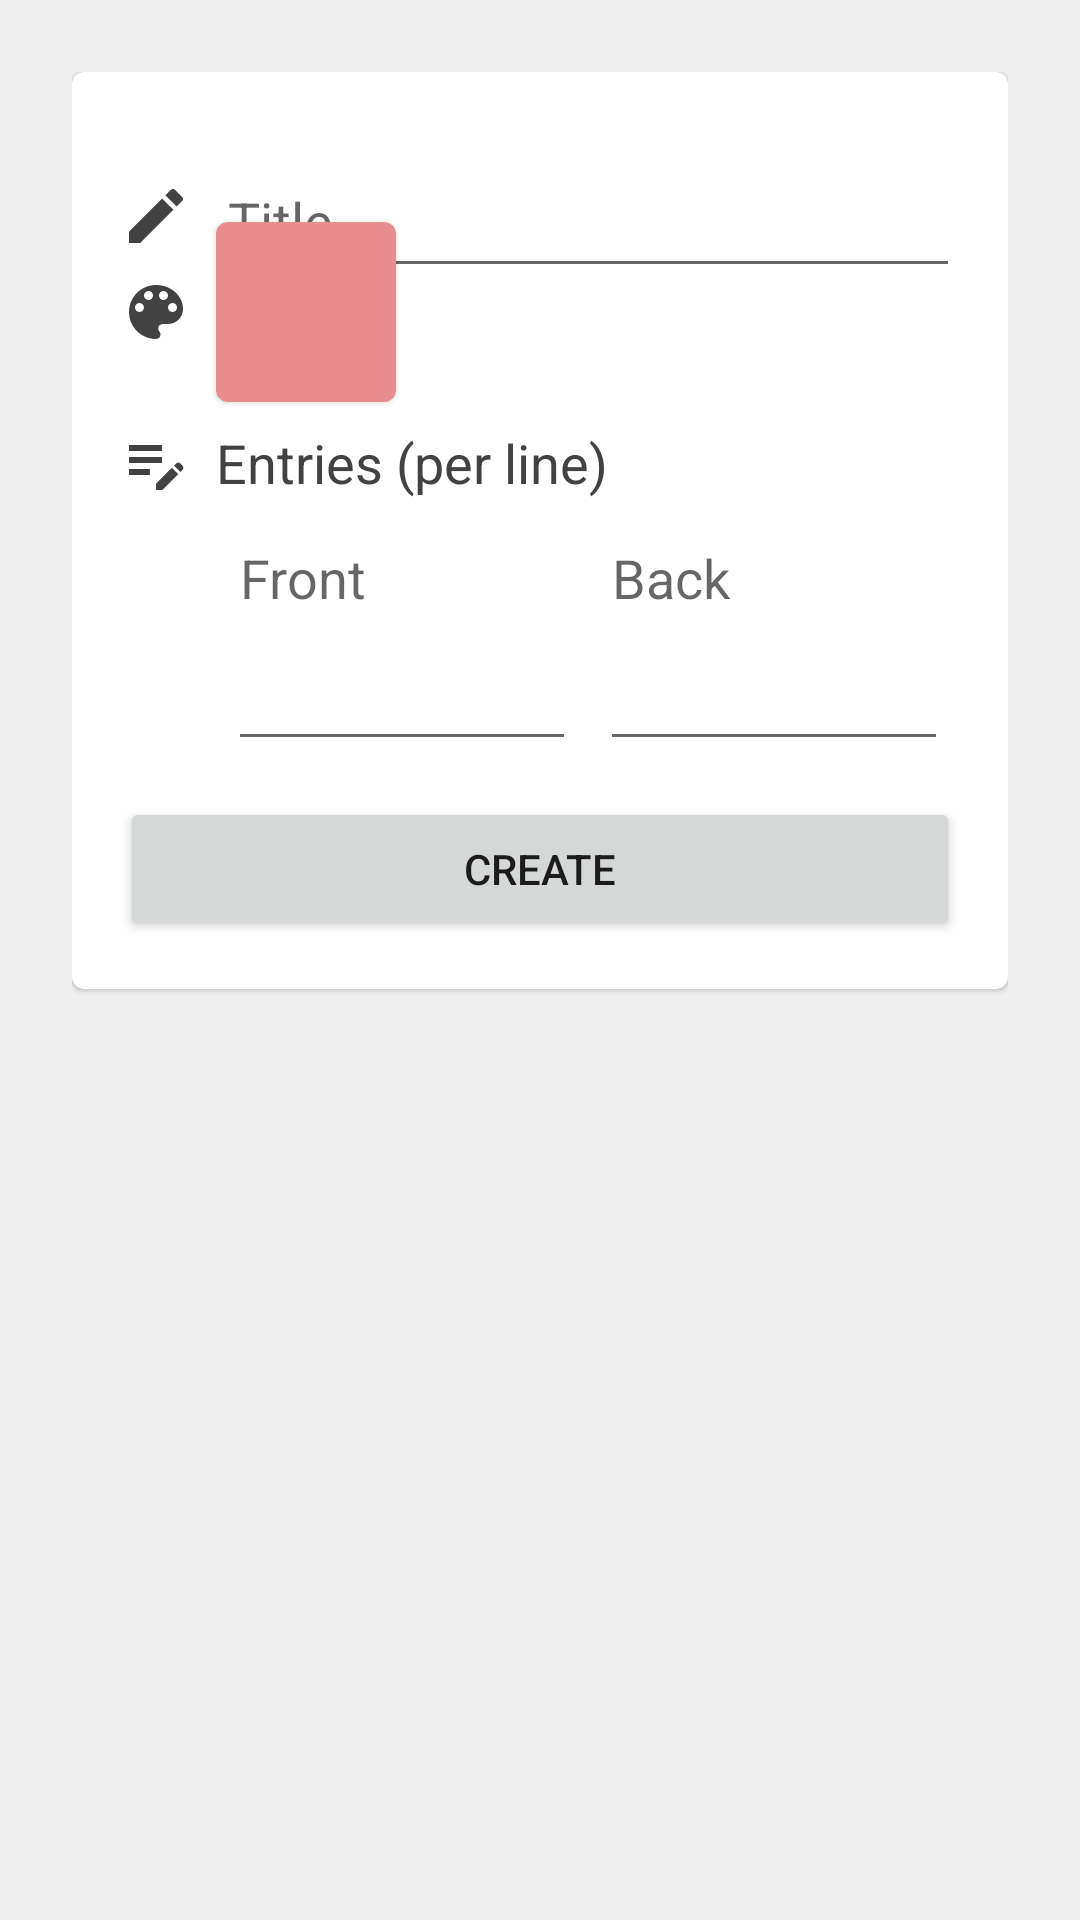

Point at icon controls on the screen. Image size 1080×1920, points as [x,y].
create edit: [156,467]
